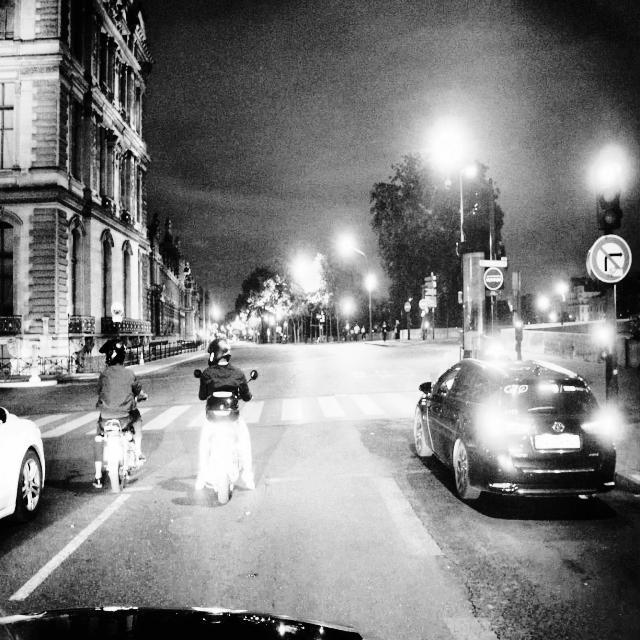Car: (411, 355, 619, 509), (0, 396, 46, 521)
Light: (596, 161, 622, 229), (598, 329, 610, 361)
Motorcycle: (193, 362, 260, 502), (99, 384, 144, 494)
Sign: (589, 234, 631, 284)
